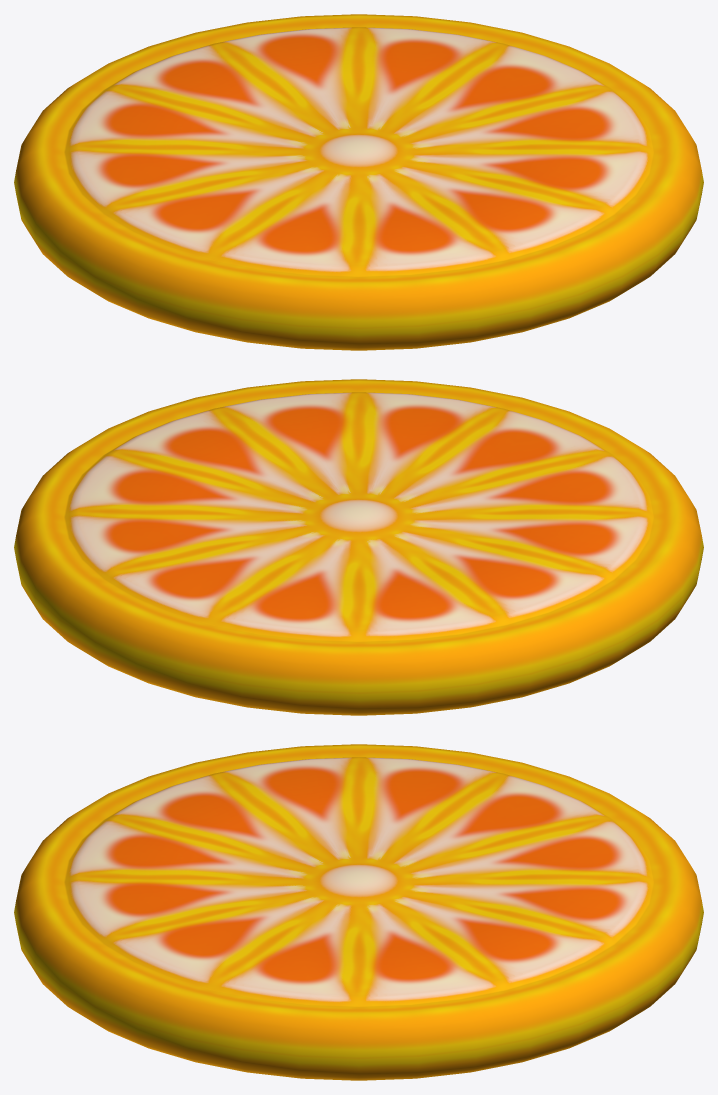
Rendered from PoolFloat02.FBX.
3 renders of one model, top to bottom at view 1: azimuth 30°, elevation 25°; view 2: azimuth 150°, elevation 25°; view 3: azimuth 270°, elevation 25°, orthographic.
Parts seen in each view (by area): view 1: PoolFloat02; view 2: PoolFloat02; view 3: PoolFloat02.
Boxes of the visible parts, x1,y1,x2,y2 form: PoolFloat02: [14, 14, 703, 350]; PoolFloat02: [14, 379, 703, 715]; PoolFloat02: [14, 744, 703, 1080].
Size of what is drawn, in the model's own units: 2.1 by 0.2377 by 2.1.
